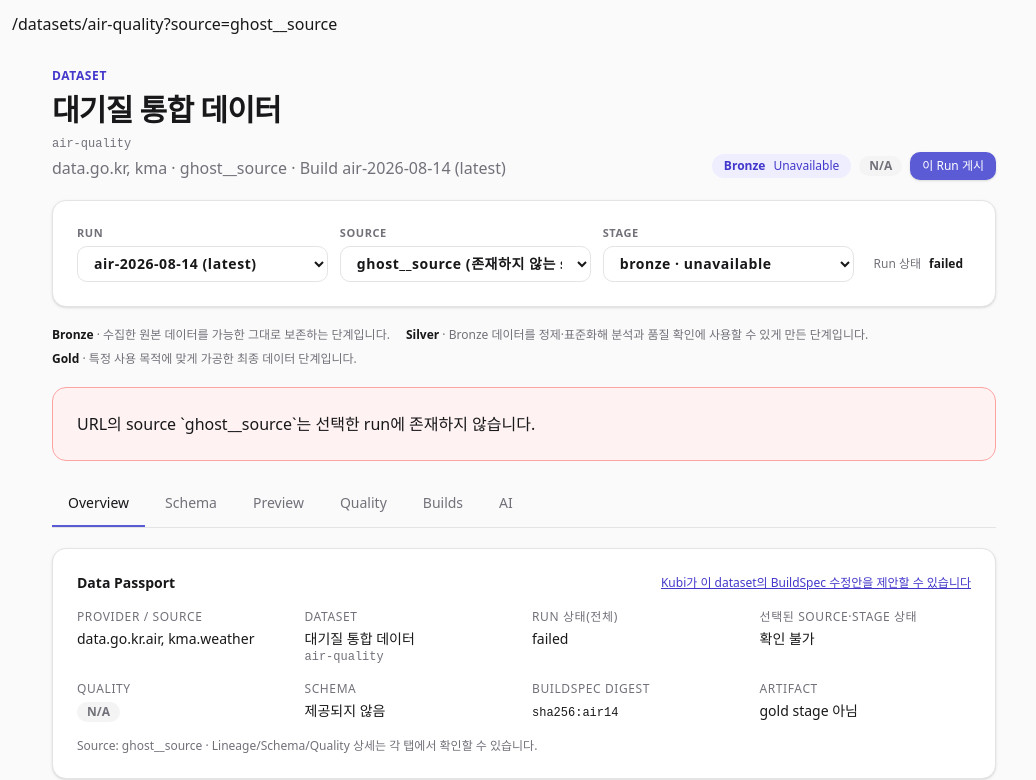
Test: Dataset Detail P0 (#253) › keeps an invalid source visible in the select with a recovery path
Expected: the message shows "ghost__source", [185,412,292,434]
Select "datago__air" in the dropdown named "Source 선택" at (465, 264), box [340,246,591,282]
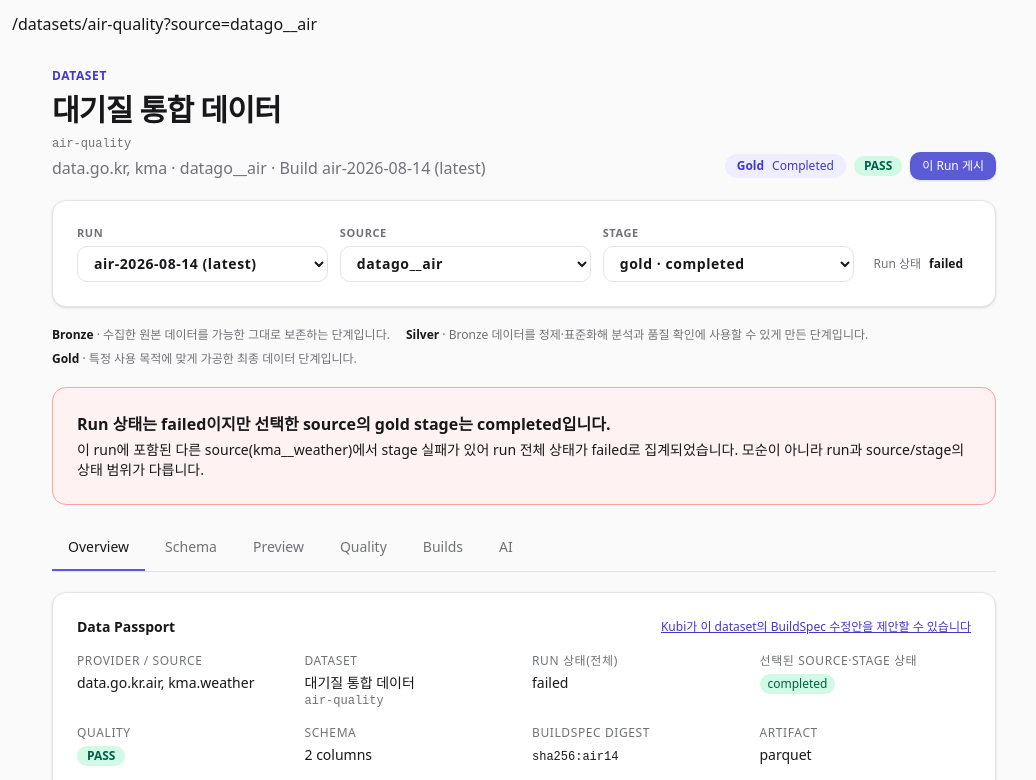
Expected: the text with test id "location" shows "source=datago__air", [164,13,317,35]
